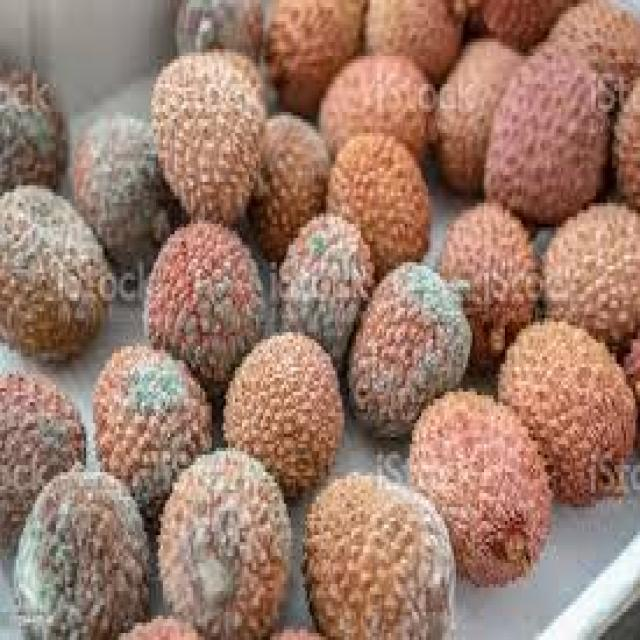organic waste: (408, 381, 550, 591), (496, 311, 633, 507), (154, 440, 291, 636), (302, 468, 454, 636), (9, 458, 149, 637), (482, 28, 607, 224), (345, 252, 470, 440), (93, 339, 210, 525), (142, 217, 263, 392), (221, 325, 345, 493), (149, 45, 263, 224), (0, 174, 109, 360), (435, 200, 538, 368), (0, 364, 86, 549), (272, 207, 375, 361), (72, 112, 175, 266), (435, 31, 533, 192), (540, 203, 638, 353), (324, 126, 428, 262), (316, 46, 431, 164), (247, 105, 326, 248), (263, 0, 360, 101), (0, 62, 67, 192), (361, 0, 470, 77), (544, 0, 637, 80), (466, 0, 570, 56), (172, 0, 263, 59), (610, 59, 638, 196), (621, 325, 638, 458), (114, 612, 200, 637), (268, 622, 318, 636)
